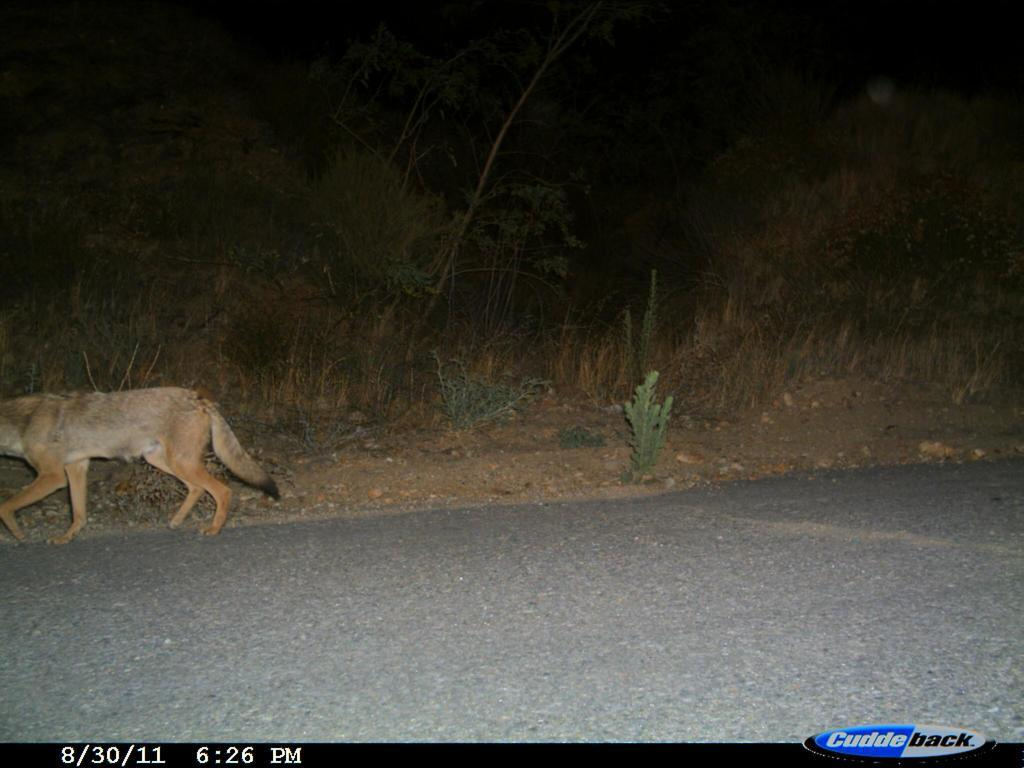coyote: (6, 382, 296, 553)
